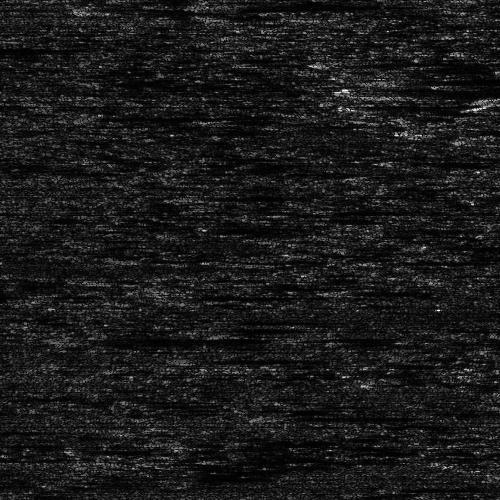object: (0, 2, 196, 17), (122, 354, 247, 365), (23, 332, 96, 345), (230, 410, 323, 419), (171, 1, 264, 8), (392, 126, 465, 133), (61, 114, 134, 119), (457, 138, 500, 143), (390, 74, 401, 87), (457, 49, 498, 52), (380, 87, 391, 98)
shadow: (97, 2, 366, 17), (59, 332, 229, 345), (396, 74, 500, 87), (185, 354, 293, 365), (277, 410, 400, 419), (218, 1, 376, 8), (97, 114, 251, 119), (429, 126, 500, 133), (386, 87, 416, 98), (0, 44, 42, 51), (478, 49, 500, 52)
